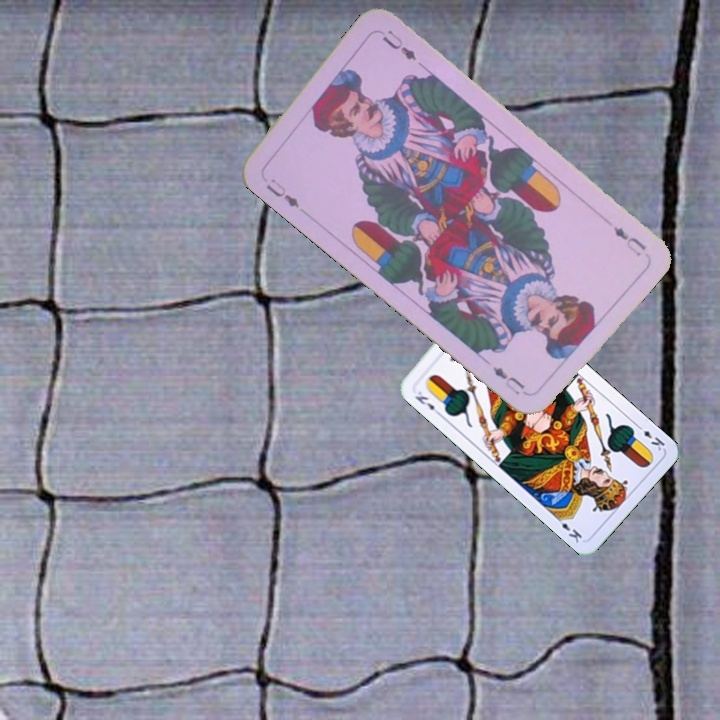EK: (632, 420, 668, 453), (411, 387, 443, 418)
EU: (262, 174, 302, 211), (609, 223, 649, 259)
